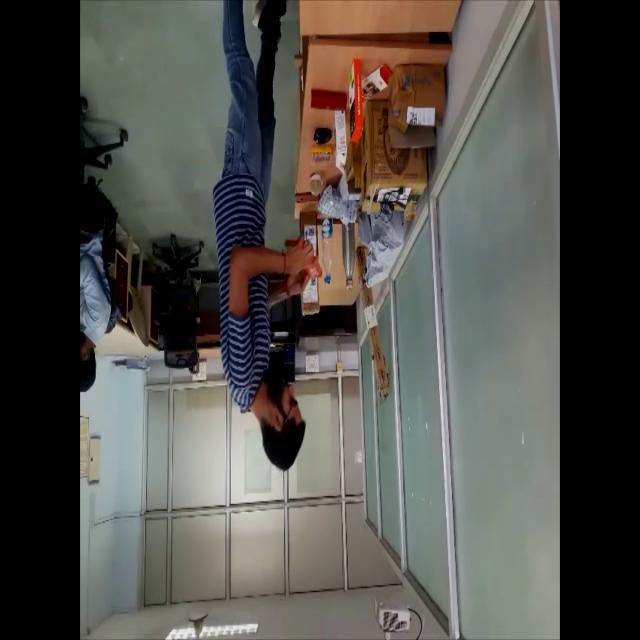normal: (210, 5, 324, 496)
